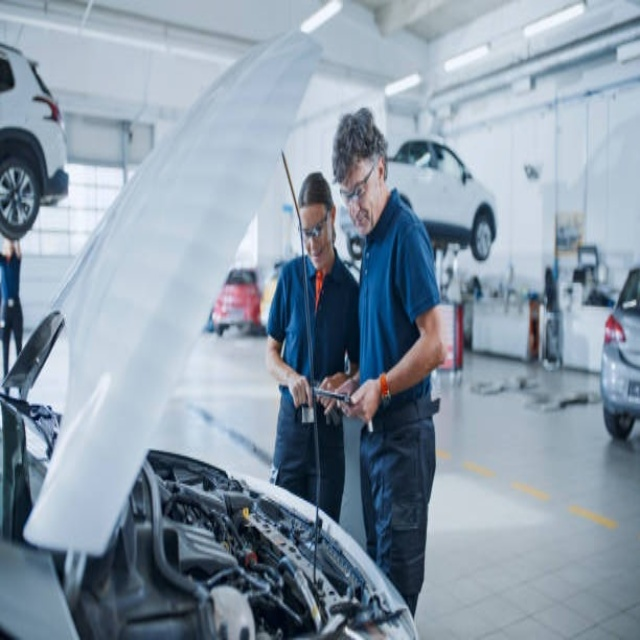Gafas: (338, 161, 377, 205), (299, 207, 330, 241)
Sin_guantes: (347, 370, 379, 428), (318, 371, 356, 419), (288, 371, 314, 414)
Sin_mascara: (352, 203, 373, 234), (310, 247, 322, 258)
